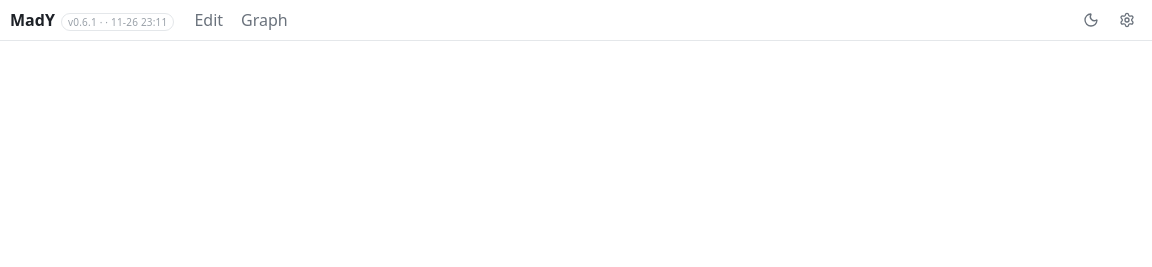
Test case: per-item menu icons › renders the icon as an <svg> WITHOUT changing a row's text (name lookups still match)
Click the text with class "menu" showing "Edit" at (209, 20), box x1=194 y1=9 x2=223 y2=31
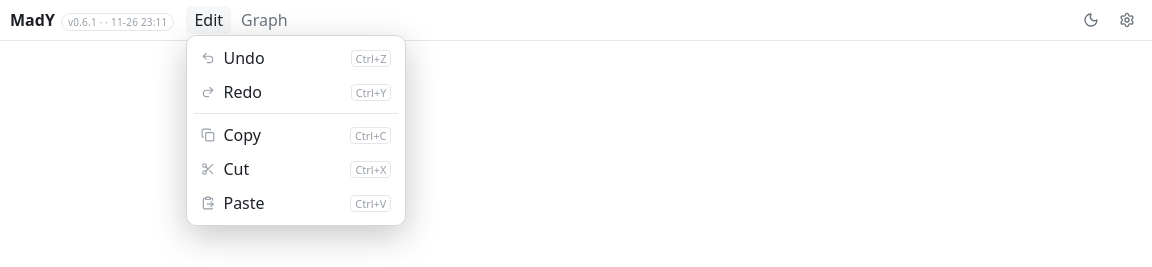
Expected: the menu item with class "dropitem" showing "Copy Ctrl+C" is shown, x1=192 y1=118 x2=400 y2=152
Expected: the element with class "dropitem-label" reads "Copy", x1=224 y1=124 x2=261 y2=146
Expected: the 3rd icon is shown, x1=202 y1=128 x2=216 y2=142
